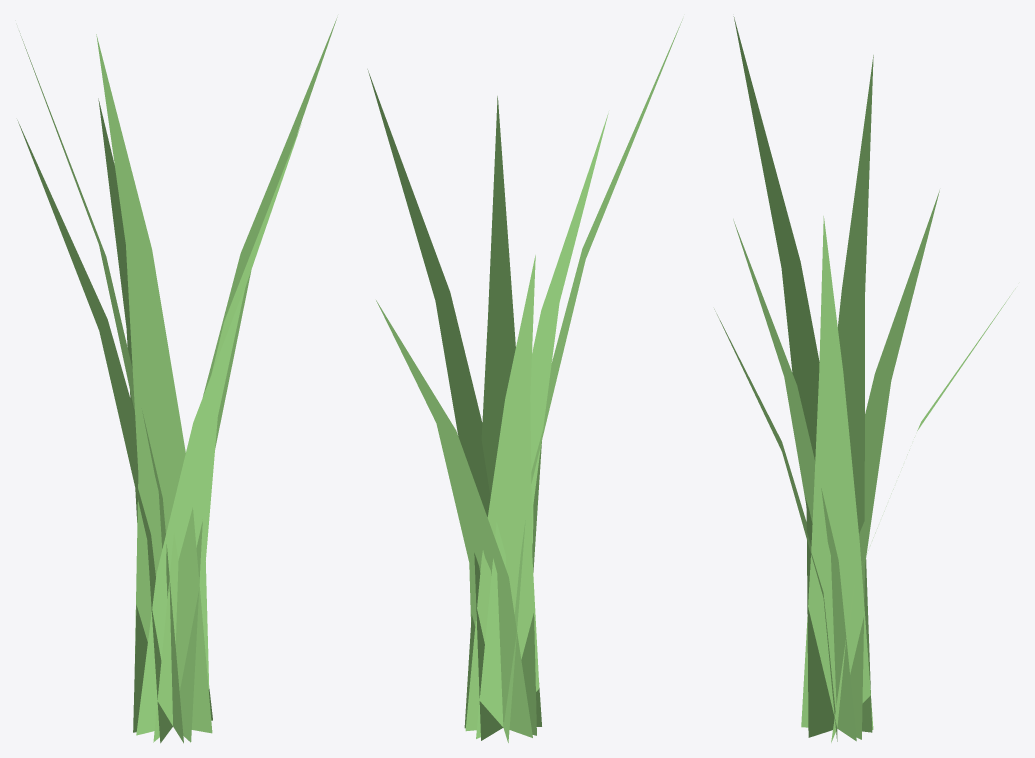
File: grass.gltf
3 renders of one model, left to right at view 1: azimuth 30°, elevation 25°; view 2: azimuth 150°, elevation 25°; view 3: azimuth 270°, elevation 25°, orthographic. The views are drawn at different scales.
Visible parts, largest first — view 1: Grass; view 2: Grass; view 3: Grass.
Boxes of the visible parts, <box> form: Grass: <box>17,17,337,743</box>; Grass: <box>367,19,682,742</box>; Grass: <box>714,16,1015,742</box>.
Size of the model in its own units: 0.2804 by 0.7 by 0.2972.
